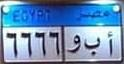6: (46, 27, 63, 57), (6, 30, 21, 57), (33, 29, 47, 57), (21, 27, 33, 56)
أ: (105, 29, 115, 57)
ب: (84, 33, 103, 58)
و: (66, 30, 85, 57)
